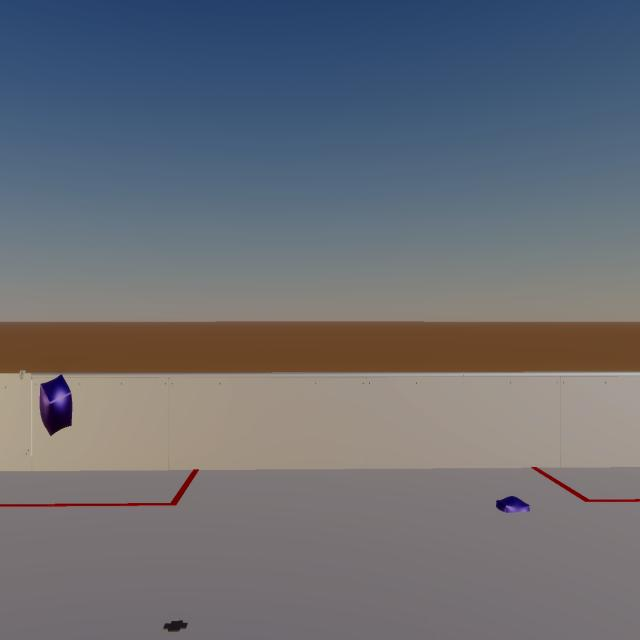frc_cube: (40, 375, 72, 436), (496, 496, 530, 513)
